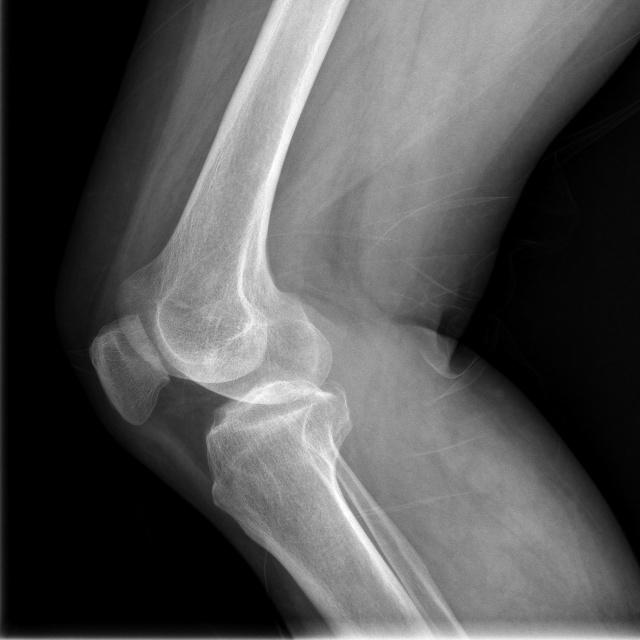Knee: (84, 278, 350, 487)
